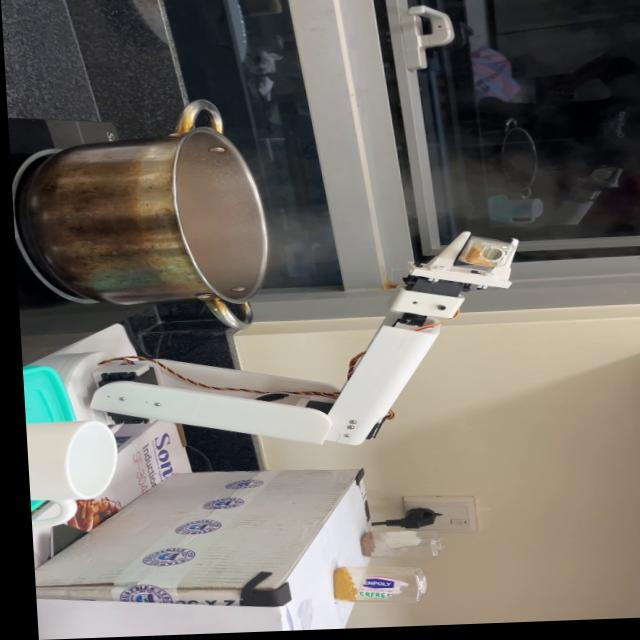cooking_pot: (21, 102, 271, 339)
curry_powder: (324, 569, 354, 604)
garlic_powder: (456, 251, 487, 272)
maggie_open: (355, 533, 372, 560)
